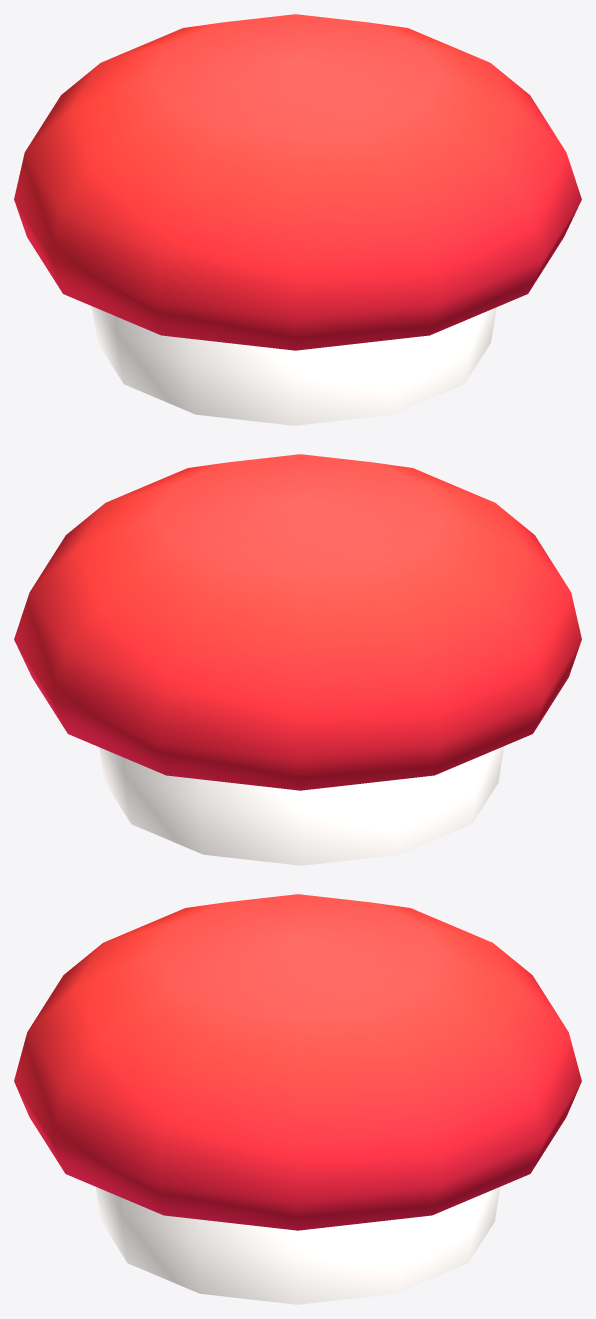
File: trampoline_002.glb
3 views of the same model, one above another, from view 1: azimuth 30°, elevation 25°; view 2: azimuth 150°, elevation 25°; view 3: azimuth 270°, elevation 25° (orthographic).
Visible parts, largest first — view 1: trampoline_002; view 2: trampoline_002; view 3: trampoline_002.
Part boxes in pixels (bbox=[...]): trampoline_002: bbox=[14, 14, 581, 425]; trampoline_002: bbox=[14, 454, 581, 865]; trampoline_002: bbox=[14, 894, 581, 1304].
Size of the model in its own units: 1.88 by 1.03 by 1.88.
Materials: 1 (1 with a texture image).
